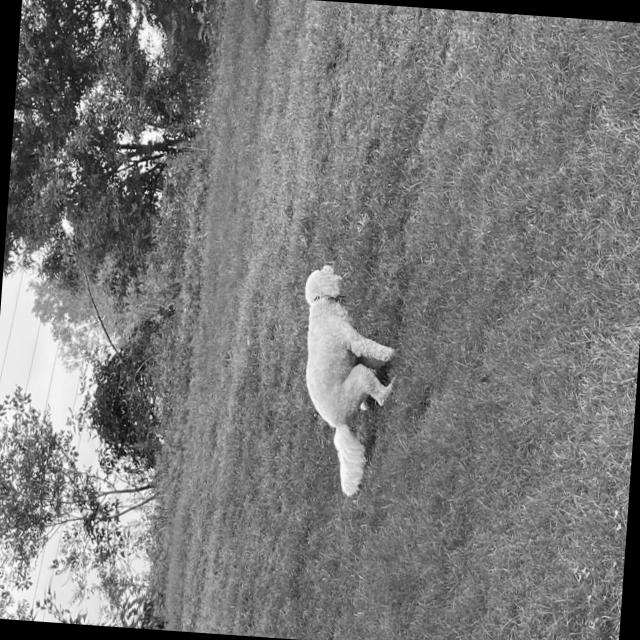squatting: (282, 253, 409, 502)
